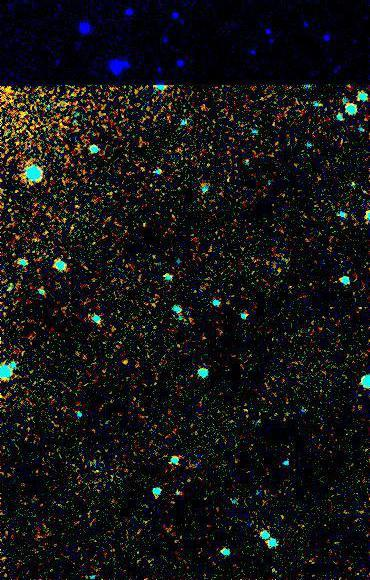star: (108, 346, 138, 376)
